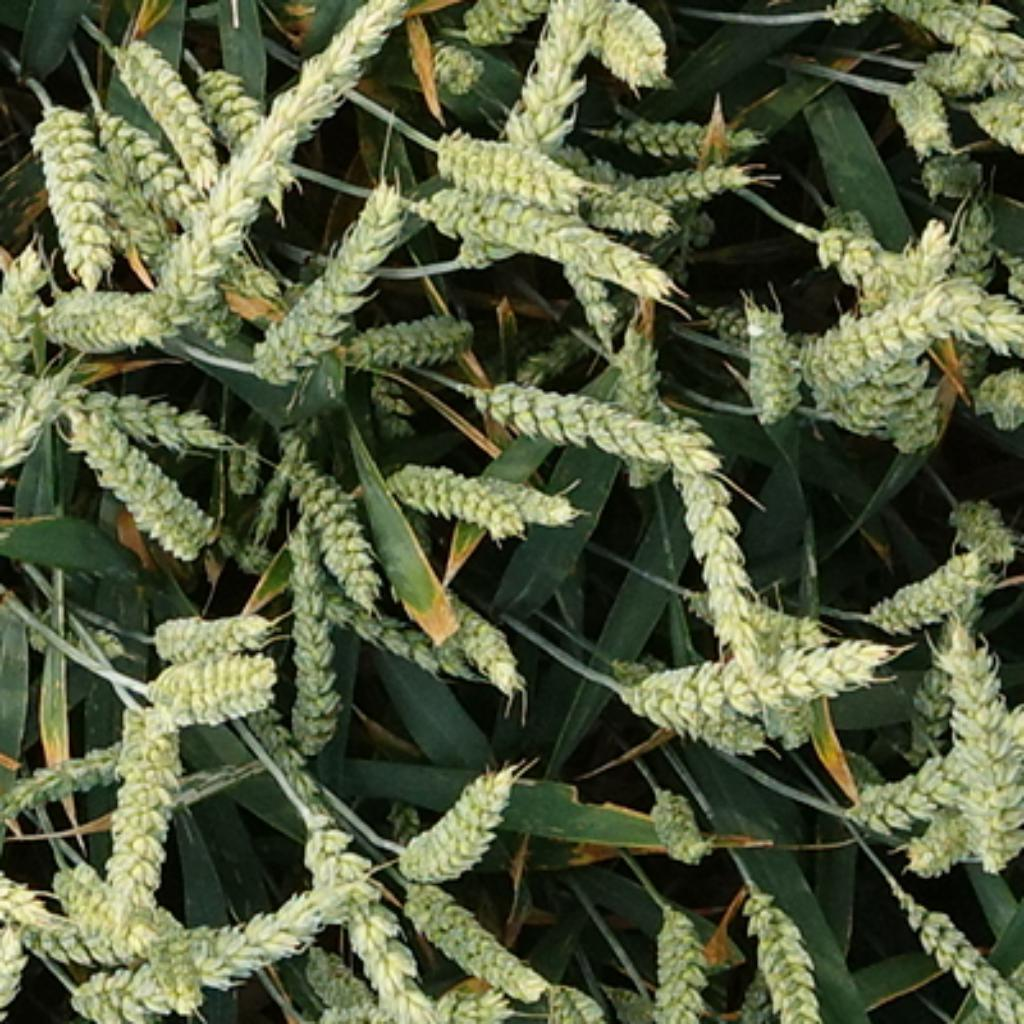0-0: (153, 0, 440, 317), (455, 0, 616, 276), (69, 887, 350, 1024), (217, 529, 474, 678), (99, 110, 284, 307), (238, 174, 407, 381), (642, 409, 762, 678), (422, 186, 683, 302), (616, 637, 913, 734), (296, 819, 432, 1024), (801, 279, 1024, 396), (66, 407, 222, 565), (102, 184, 245, 350), (468, 363, 698, 465), (936, 622, 1024, 875), (898, 711, 1024, 880), (104, 38, 227, 192), (102, 704, 184, 934), (399, 870, 547, 993), (30, 363, 232, 453), (389, 752, 527, 883), (803, 206, 966, 316), (611, 650, 775, 757), (30, 99, 112, 294), (0, 366, 76, 576), (284, 512, 345, 765), (286, 453, 386, 606), (737, 875, 832, 1024), (194, 64, 304, 192), (430, 128, 593, 207), (860, 540, 996, 634), (839, 747, 980, 837), (601, 325, 675, 494), (384, 460, 524, 542), (133, 652, 279, 729), (445, 594, 550, 699), (248, 706, 337, 829), (0, 742, 128, 826), (919, 593, 985, 755), (40, 284, 171, 363), (683, 583, 834, 647), (0, 240, 46, 450), (737, 294, 803, 435), (343, 296, 476, 363), (642, 901, 714, 1021), (601, 107, 768, 156), (256, 417, 320, 540), (882, 0, 1024, 55), (637, 158, 778, 212), (0, 775, 51, 924), (10, 916, 145, 970), (143, 609, 273, 665), (883, 353, 949, 463), (924, 43, 1023, 114), (458, 0, 593, 51), (593, 0, 665, 89), (304, 939, 378, 1024), (640, 783, 714, 867), (151, 903, 207, 1013), (481, 476, 586, 529), (880, 66, 949, 145), (750, 683, 829, 752), (568, 258, 622, 358), (586, 186, 688, 238), (949, 496, 1024, 565), (560, 138, 655, 192), (512, 330, 593, 391), (17, 619, 133, 660), (532, 975, 627, 1024), (970, 358, 1024, 437), (698, 286, 760, 348), (826, 386, 901, 437), (51, 860, 115, 919), (916, 140, 988, 192), (957, 202, 1000, 289), (0, 919, 33, 1024), (427, 30, 483, 89), (424, 990, 519, 1024), (373, 373, 419, 442), (741, 958, 782, 1024), (974, 96, 1024, 150), (389, 793, 427, 852), (227, 437, 263, 499)
